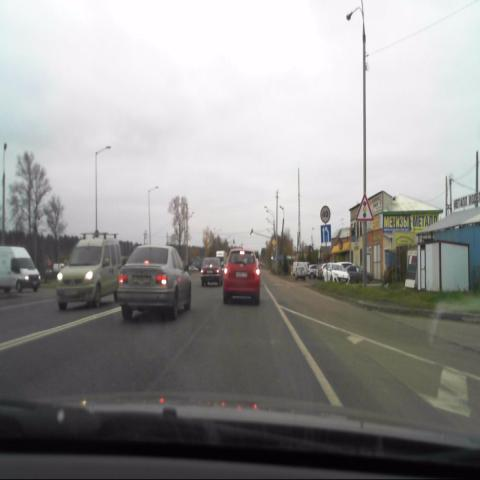1_8: (355, 193, 374, 221)
